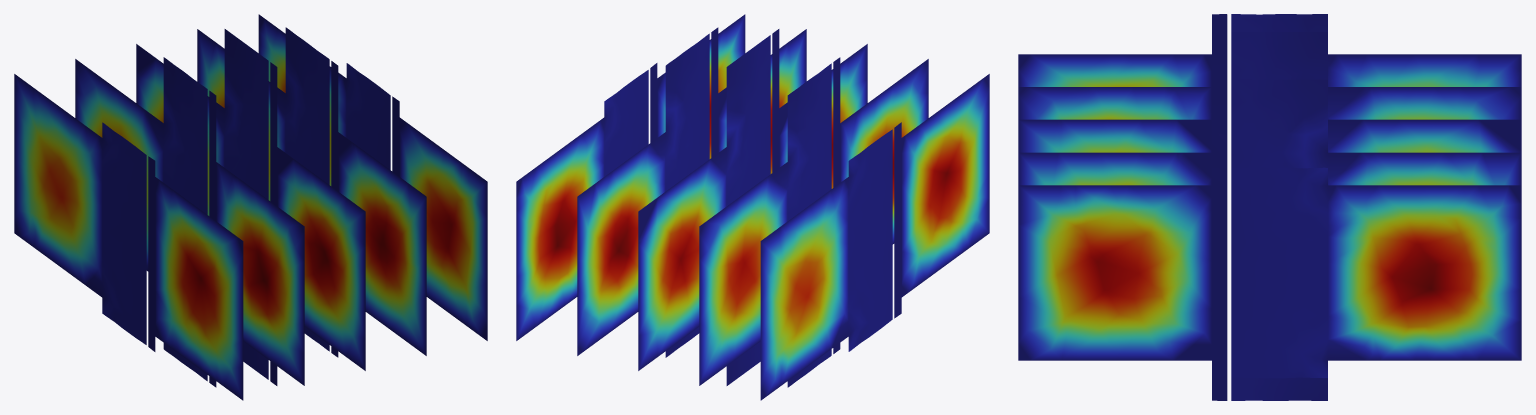
Rendered from VelocidadH2-O2_mh2-1.38_V-1.1.glb.
The picture shows the model from 3 angles, left to right: view 1: azimuth 30°, elevation 25°; view 2: azimuth 150°, elevation 25°; view 3: azimuth 270°, elevation 25°; orthographic projection. The views are drawn at different scales.
Size of the model in its own units: 0.0008 by 0.001 by 0.0013.
2 materials, 2 textured.
